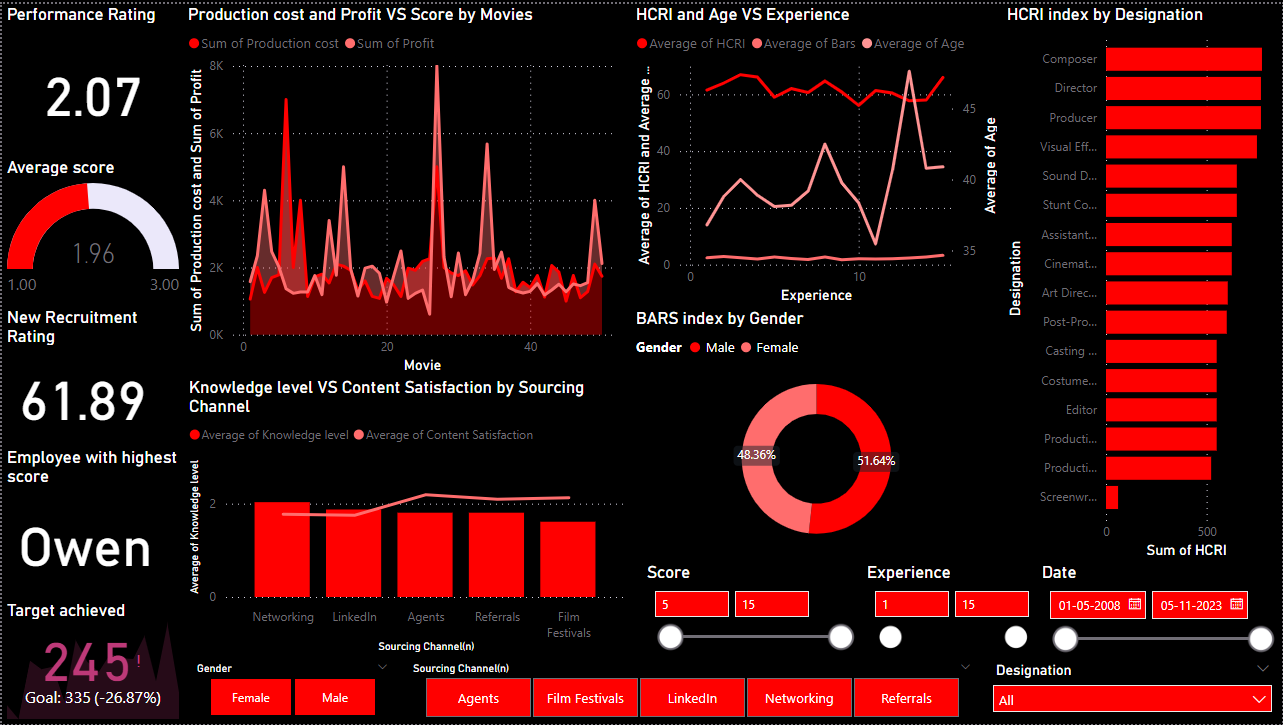

The page's visual inventory and layout, read from the dashboard file:
{"tool":"powerbi","page":{"name":"Page 1","canvas":[1280,720],"ordinal":0},"visuals":[{"type":"barChart","title":"HCRI index by Designation","fields":{"Category":["Response.Designation"],"Y":["Sum(Index.HCRI)"]},"box":[1000,0,280,558.8],"z":0},{"type":"lineChart","title":"HCRI and Age VS Experience","fields":{"Category":["Index.Experience"],"Y2":["Avg(Index.Age)"],"Y":["Avg(Index.HCRI)","Avg(Index.Bars)"]},"box":[628.8,0,371.2,303.8],"z":1000},{"type":"donutChart","title":"BARS index by Gender","fields":{"Category":["Index.Gender"],"Y":["Sum(Index.Bars)"]},"box":[628.8,303.8,371.2,253.8],"z":2000},{"type":"stackedAreaChart","title":"Production cost and Profit VS Score by Movies","fields":{"Category":["Cost and Production.Movie"],"Y":["Sum(Cost and Production.Production cost)","Sum(Cost and Production.Profit)"]},"box":[181.2,0,433.8,373.8],"z":3000},{"type":"card","title":"Performance Rating","fields":{"Values":["Avg(Talent.Performance rating)"]},"box":[0,0,181.7,152.6],"z":4000},{"type":"gauge","title":"Average score","fields":{"Y":["Avg(Talent.Average score)"],"MinValue":["Min(Talent.Average score)"],"MaxValue":["Max(Talent.Average score)1"]},"box":[0,152.6,181.7,150.6],"z":5000},{"type":"cardVisual","title":"New Recruitment Rating","fields":{"Data":["Avg(Recruitment.New hires performance satisfaction)"]},"box":[0,303.2,181.7,140],"z":6000},{"type":"lineClusteredColumnComboChart","title":"Knowledge level VS Content Satisfaction by Sourcing Channel","fields":{"Y":["Avg(Training and Development.Knowledge level)"],"Category":["Recruitment.Sourcing Channel(n)"],"Y2":["Avg(Training and Development.Content Satisfaction)"]},"box":[181.7,373.2,447.1,279.9],"z":7000},{"type":"cardVisual","title":"Employee with highest score","fields":{"Data":["Index.First Name max per Total Score"]},"box":[0,443.2,181.7,152.6],"z":8000},{"type":"slicer","fields":{"Values":["Response.Gender"]},"box":[181.7,653.1,215.8,66.1],"z":9000},{"type":"slicer","fields":{"Values":["Recruitment.Sourcing Channel(n)"]},"box":[398.5,653.1,582.2,67.1],"z":10000},{"type":"slicer","fields":{"Values":["Response.Designation"]},"box":[980.7,653.1,299.3,66.1],"z":11000},{"type":"kpi","title":"Target achieved","fields":{"Goal":["Sum(Performance.Target Given)"],"Indicator":["Sum(Performance.Target Achieved)"],"TrendLine":["Recruitment Analysis.Date.Variation.Date Hierarchy.Year"]},"box":[0,595.8,181.7,124.4],"z":12000},{"type":"slicer","title":"Date","fields":{"Values":["Recruitment Analysis.Date"]},"box":[1035,557.5,245,95],"z":13000},{"type":"slicer","title":"Experience","fields":{"Values":["Index.Experience"]},"box":[860,557.5,175,95],"z":14000},{"type":"slicer","title":"Score","fields":{"Values":["Talent.Total Score"]},"box":[640,557.5,220,95],"z":15000}]}

Visuals, with their boxes in screenshot pixels (x1, y1, x2, y2), scaled from the page's 1280x720 canvas onto the 1283x725 screenshot:
"HCRI index by Designation" barChart: rect(1002, 0, 1282, 563)
"HCRI and Age VS Experience" lineChart: rect(630, 0, 1002, 306)
"BARS index by Gender" donutChart: rect(630, 306, 1002, 561)
"Production cost and Profit VS Score by Movies" stackedAreaChart: rect(182, 0, 616, 376)
"Performance Rating" card: rect(0, 0, 182, 154)
"Average score" gauge: rect(0, 154, 182, 305)
"New Recruitment Rating" cardVisual: rect(0, 305, 182, 446)
"Knowledge level VS Content Satisfaction by Sourcing Channel" lineClusteredColumnComboChart: rect(182, 376, 630, 658)
"Employee with highest score" cardVisual: rect(0, 446, 182, 600)
slicer - Response.Gender: rect(182, 658, 398, 724)
slicer - Recruitment.Sourcing Channel(n): rect(399, 658, 983, 724)
slicer - Response.Designation: rect(983, 658, 1282, 724)
"Target achieved" kpi: rect(0, 600, 182, 724)
"Date" slicer: rect(1037, 561, 1282, 657)
"Experience" slicer: rect(862, 561, 1037, 657)
"Score" slicer: rect(642, 561, 862, 657)
